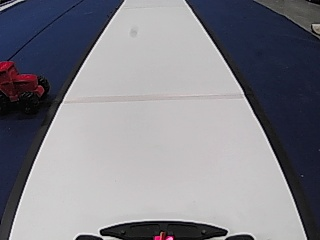tractor: (0, 58, 50, 116)
